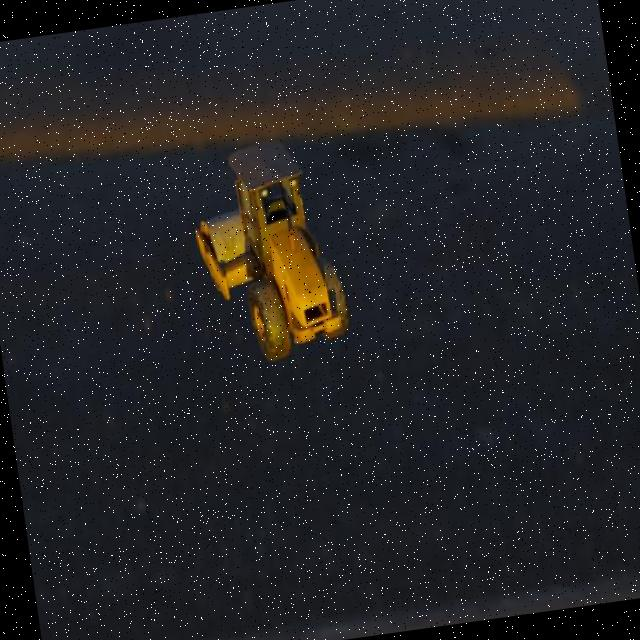Roller: (184, 133, 354, 370)
